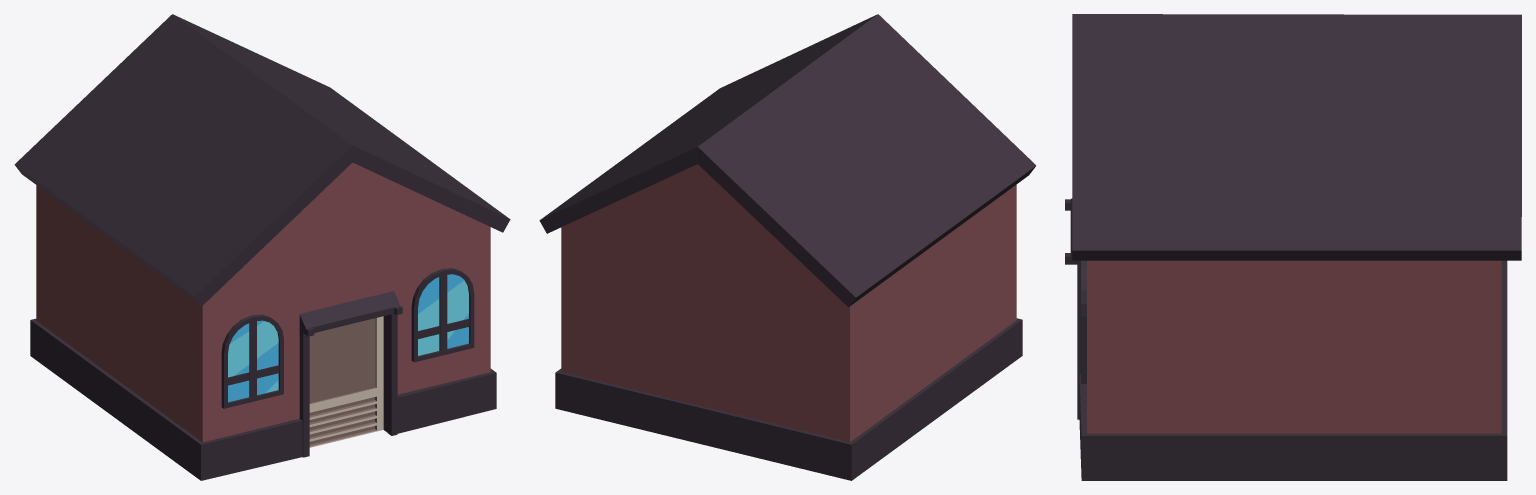
The model's file is Env_ResidentBuilding_01.fbx.
3 renders of one model, left to right at view 1: azimuth 30°, elevation 25°; view 2: azimuth 150°, elevation 25°; view 3: azimuth 270°, elevation 25°, orthographic. The views are drawn at different scales.
Parts seen in each view (by area): view 1: Env_ResidentBuilding_01; view 2: Env_ResidentBuilding_01; view 3: Env_ResidentBuilding_01.
Boxes of the visible parts, x1,y1,x2,y2 form: Env_ResidentBuilding_01: [14, 14, 510, 480]; Env_ResidentBuilding_01: [539, 14, 1036, 480]; Env_ResidentBuilding_01: [1065, 14, 1521, 480].
Bounding box in the file's own units: 570 × 522 × 573.
